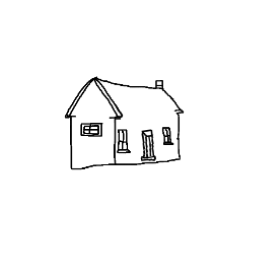chimney: (149, 75, 170, 97)
closed_window: (114, 127, 134, 156), (78, 120, 104, 139), (158, 125, 176, 150)
door: (139, 125, 160, 169)
single_line_roof: (58, 75, 191, 120)
small_house: (4, 3, 260, 260)
wall: (63, 75, 125, 174)
